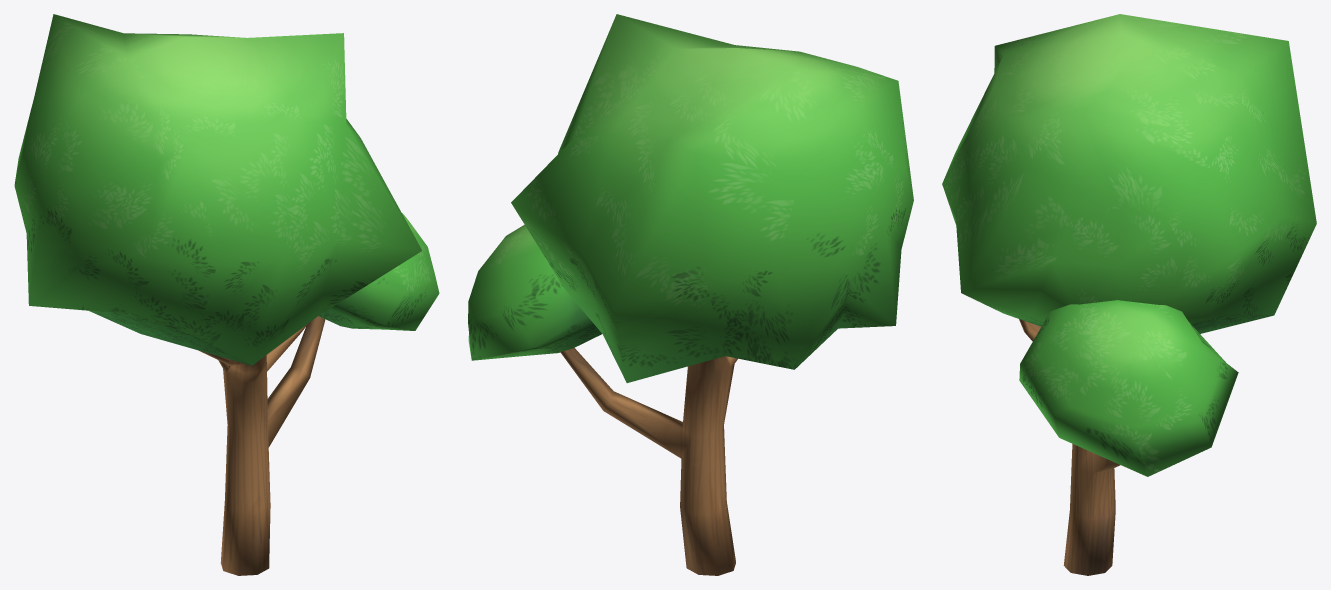
File: tree 6.fbx
3 views of the same model, side by side, from view 1: azimuth 30°, elevation 25°; view 2: azimuth 150°, elevation 25°; view 3: azimuth 270°, elevation 25° (orthographic). The views are drawn at different scales.
Parts seen in each view (by area): view 1: Cylinder.009; view 2: Cylinder.009; view 3: Cylinder.009.
Boxes of the visible parts, box(x1,y1,x2,y2) form: Cylinder.009: box(14, 14, 439, 575); Cylinder.009: box(468, 14, 913, 575); Cylinder.009: box(942, 14, 1316, 575).
Bounding box in the file's own units: 1121 × 1387 × 922.
